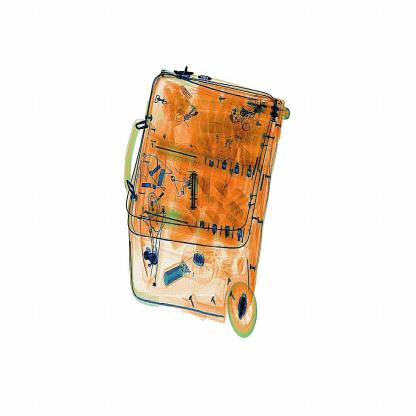scissors: (186, 166, 206, 218)
